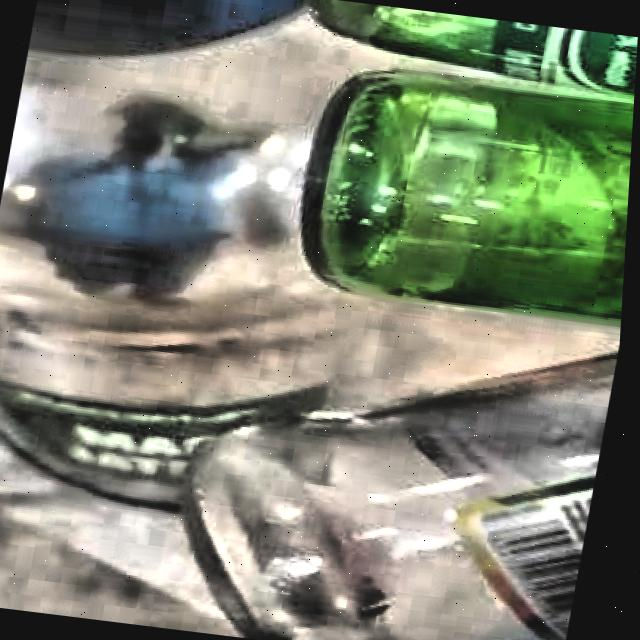glass: (191, 354, 622, 640), (304, 0, 638, 327)
